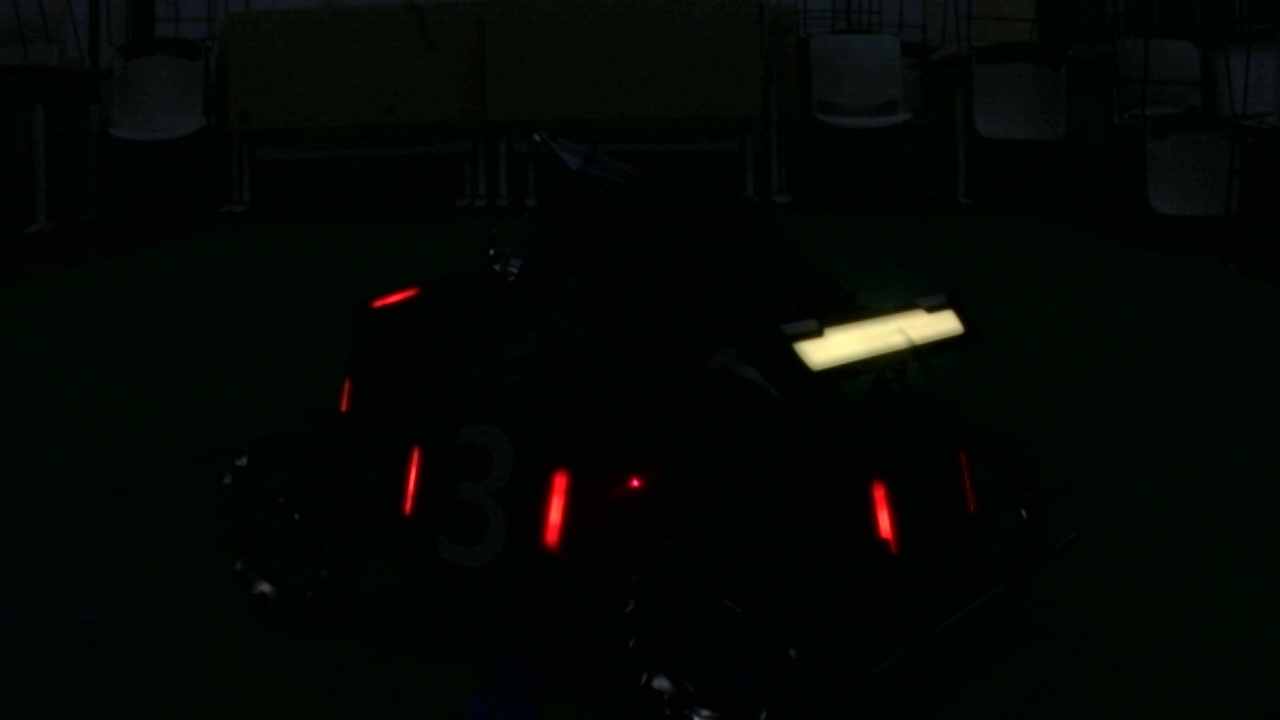lamp: (543, 466, 566, 554), (868, 477, 895, 547), (401, 444, 420, 521)
notpair1: (545, 474, 892, 553)
pair1: (392, 455, 562, 548)
